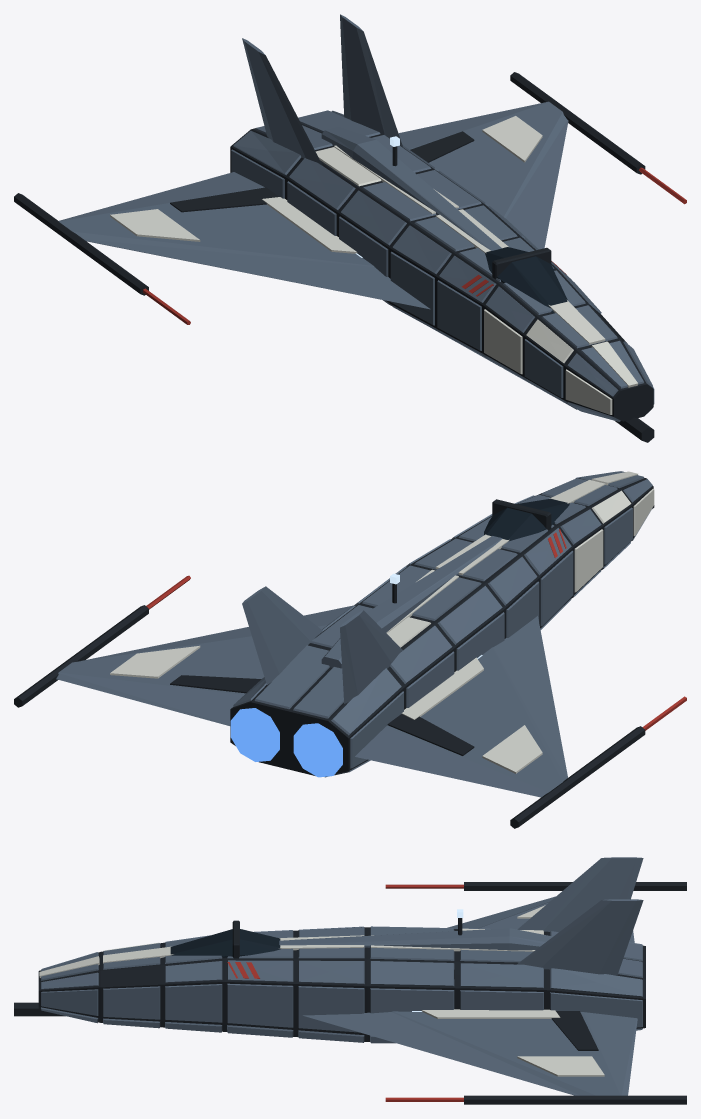
File: player_kestrel.glb
The picture shows the model from 3 angles, top to bottom: view 1: azimuth 30°, elevation 25°; view 2: azimuth 150°, elevation 25°; view 3: azimuth 270°, elevation 25°; orthographic projection. The views are drawn at different scales.
Visible parts, largest first — view 1: primary, structure, accent, glass, accent2; view 2: primary, structure, accent, engineGlow, glass, accent2; view 3: primary, structure, accent, glass, accent2.
Part boxes in pixels (x1=…): primary: x1=58, y1=14, x2=654, y2=421; structure: x1=14, y1=72, x2=654, y2=442; accent: x1=110, y1=116, x2=638, y2=414; glass: x1=485, y1=247, x2=567, y2=313; accent2: x1=143, y1=167, x2=686, y2=324; primary: x1=56, y1=471, x2=652, y2=797; structure: x1=14, y1=477, x2=654, y2=828; accent: x1=110, y1=471, x2=654, y2=773; engineGlow: x1=230, y1=708, x2=342, y2=777; glass: x1=484, y1=498, x2=574, y2=541; accent2: x1=146, y1=529, x2=686, y2=730; primary: x1=41, y1=857, x2=643, y2=1095; structure: x1=14, y1=882, x2=686, y2=1104; accent: x1=39, y1=905, x2=604, y2=1076; glass: x1=162, y1=929, x2=280, y2=957; accent2: x1=227, y1=884, x2=463, y2=1101.
Size of the model in its own units: 10.94 by 3.53 by 14.33.
